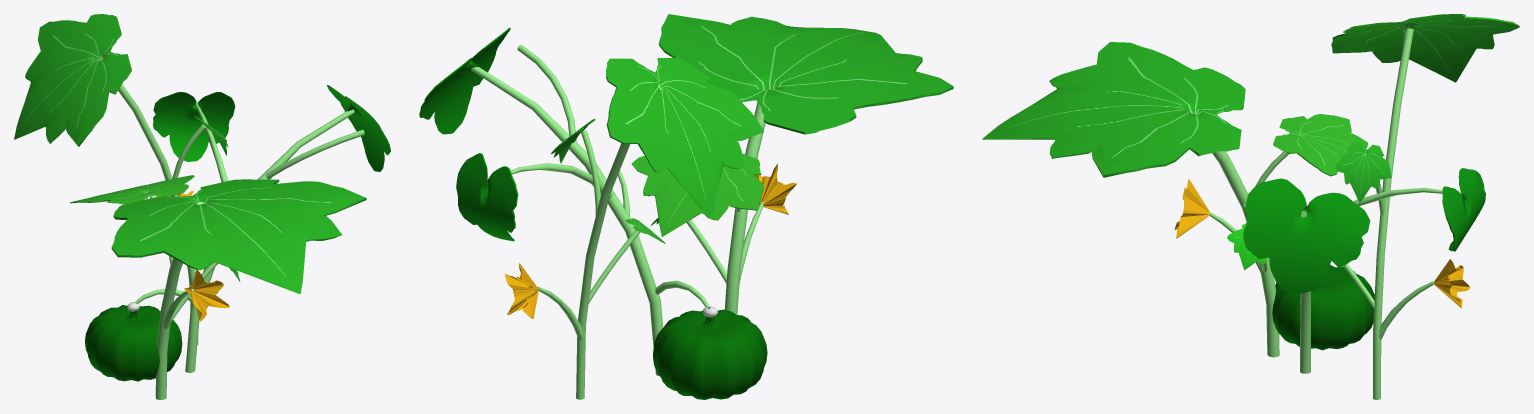
File: 南瓜生長2.FBX
The picture shows the model from 3 angles, left to right: view 1: azimuth 30°, elevation 25°; view 2: azimuth 150°, elevation 25°; view 3: azimuth 270°, elevation 25°; orthographic projection. The views are drawn at different scales.
Visible parts, largest first — view 1: Box001, Box004, Sphere001, Box008, Box007, Cylinder008, Cylinder001, Box002, Line001, Cylinder004, Cylinder011, Cylinder009 (+1 smaller); view 2: Box001, Box004, Sphere001, Box002, Box008, Cylinder008, Box007, Cylinder004, Cylinder001, Line002, Line001, Cylinder011 (+3 smaller); view 3: Box001, Box007, Box004, Sphere001, Box002, Cylinder004, Box008, Box005, Cylinder001, Line001, Cylinder008, Line002 (+3 smaller).
Boxes of the visible parts, left/top/right/bottom form: Box001: left=111, top=179, right=366, bottom=293; Box004: left=14, top=14, right=131, bottom=146; Sphere001: left=85, top=302, right=182, bottom=381; Box008: left=153, top=92, right=235, bottom=161; Box007: left=327, top=85, right=390, bottom=171; Cylinder008: left=185, top=109, right=354, bottom=372; Cylinder001: left=155, top=202, right=204, bottom=399; Box002: left=70, top=175, right=194, bottom=204; Line001: left=184, top=269, right=229, bottom=321; Cylinder004: left=97, top=58, right=198, bottom=344; Cylinder011: left=266, top=129, right=364, bottom=178; Cylinder009: left=195, top=103, right=227, bottom=182; Box001: left=658, top=14, right=953, bottom=134; Box004: left=606, top=58, right=763, bottom=218; Sphere001: left=653, top=307, right=767, bottom=399; Box002: left=631, top=153, right=763, bottom=236; Box008: left=456, top=153, right=518, bottom=241; Cylinder008: left=471, top=67, right=663, bottom=376; Box007: left=419, top=27, right=510, bottom=134; Cylinder004: left=576, top=85, right=661, bottom=399; Cylinder001: left=724, top=102, right=765, bottom=314; Line002: left=505, top=263, right=538, bottom=318; Line001: left=754, top=163, right=796, bottom=214; Cylinder011: left=517, top=44, right=576, bottom=141; Box001: left=982, top=42, right=1245, bottom=177; Box007: left=1243, top=178, right=1370, bottom=293; Box004: left=1331, top=14, right=1519, bottom=82; Sphere001: left=1272, top=265, right=1374, bottom=350; Box002: left=1273, top=114, right=1368, bottom=176; Cylinder004: left=1373, top=28, right=1413, bottom=399; Box008: left=1442, top=168, right=1485, bottom=251; Box005: left=1335, top=141, right=1391, bottom=202; Cylinder001: left=1197, top=113, right=1279, bottom=357; Line001: left=1174, top=178, right=1209, bottom=238; Cylinder008: left=1300, top=205, right=1310, bottom=373; Line002: left=1433, top=259, right=1469, bottom=308.
Bounding box in the file's own units: 52 × 46.43 × 63.6.
7 materials, 4 textured.
